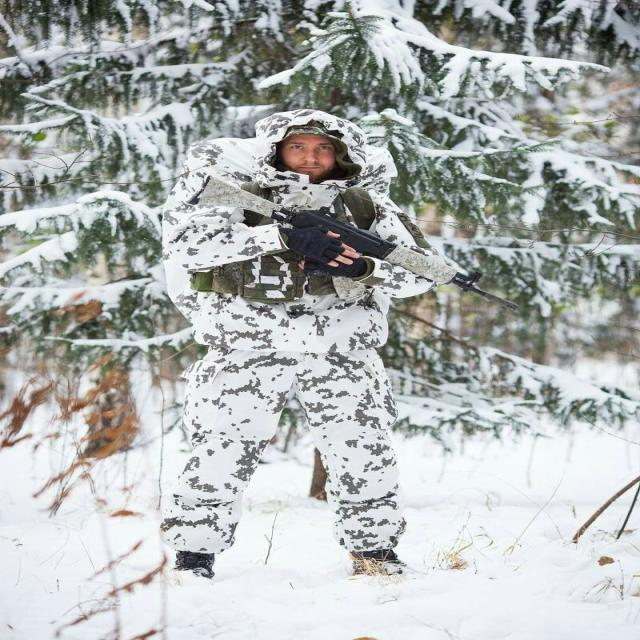Human: (160, 111, 519, 591)
